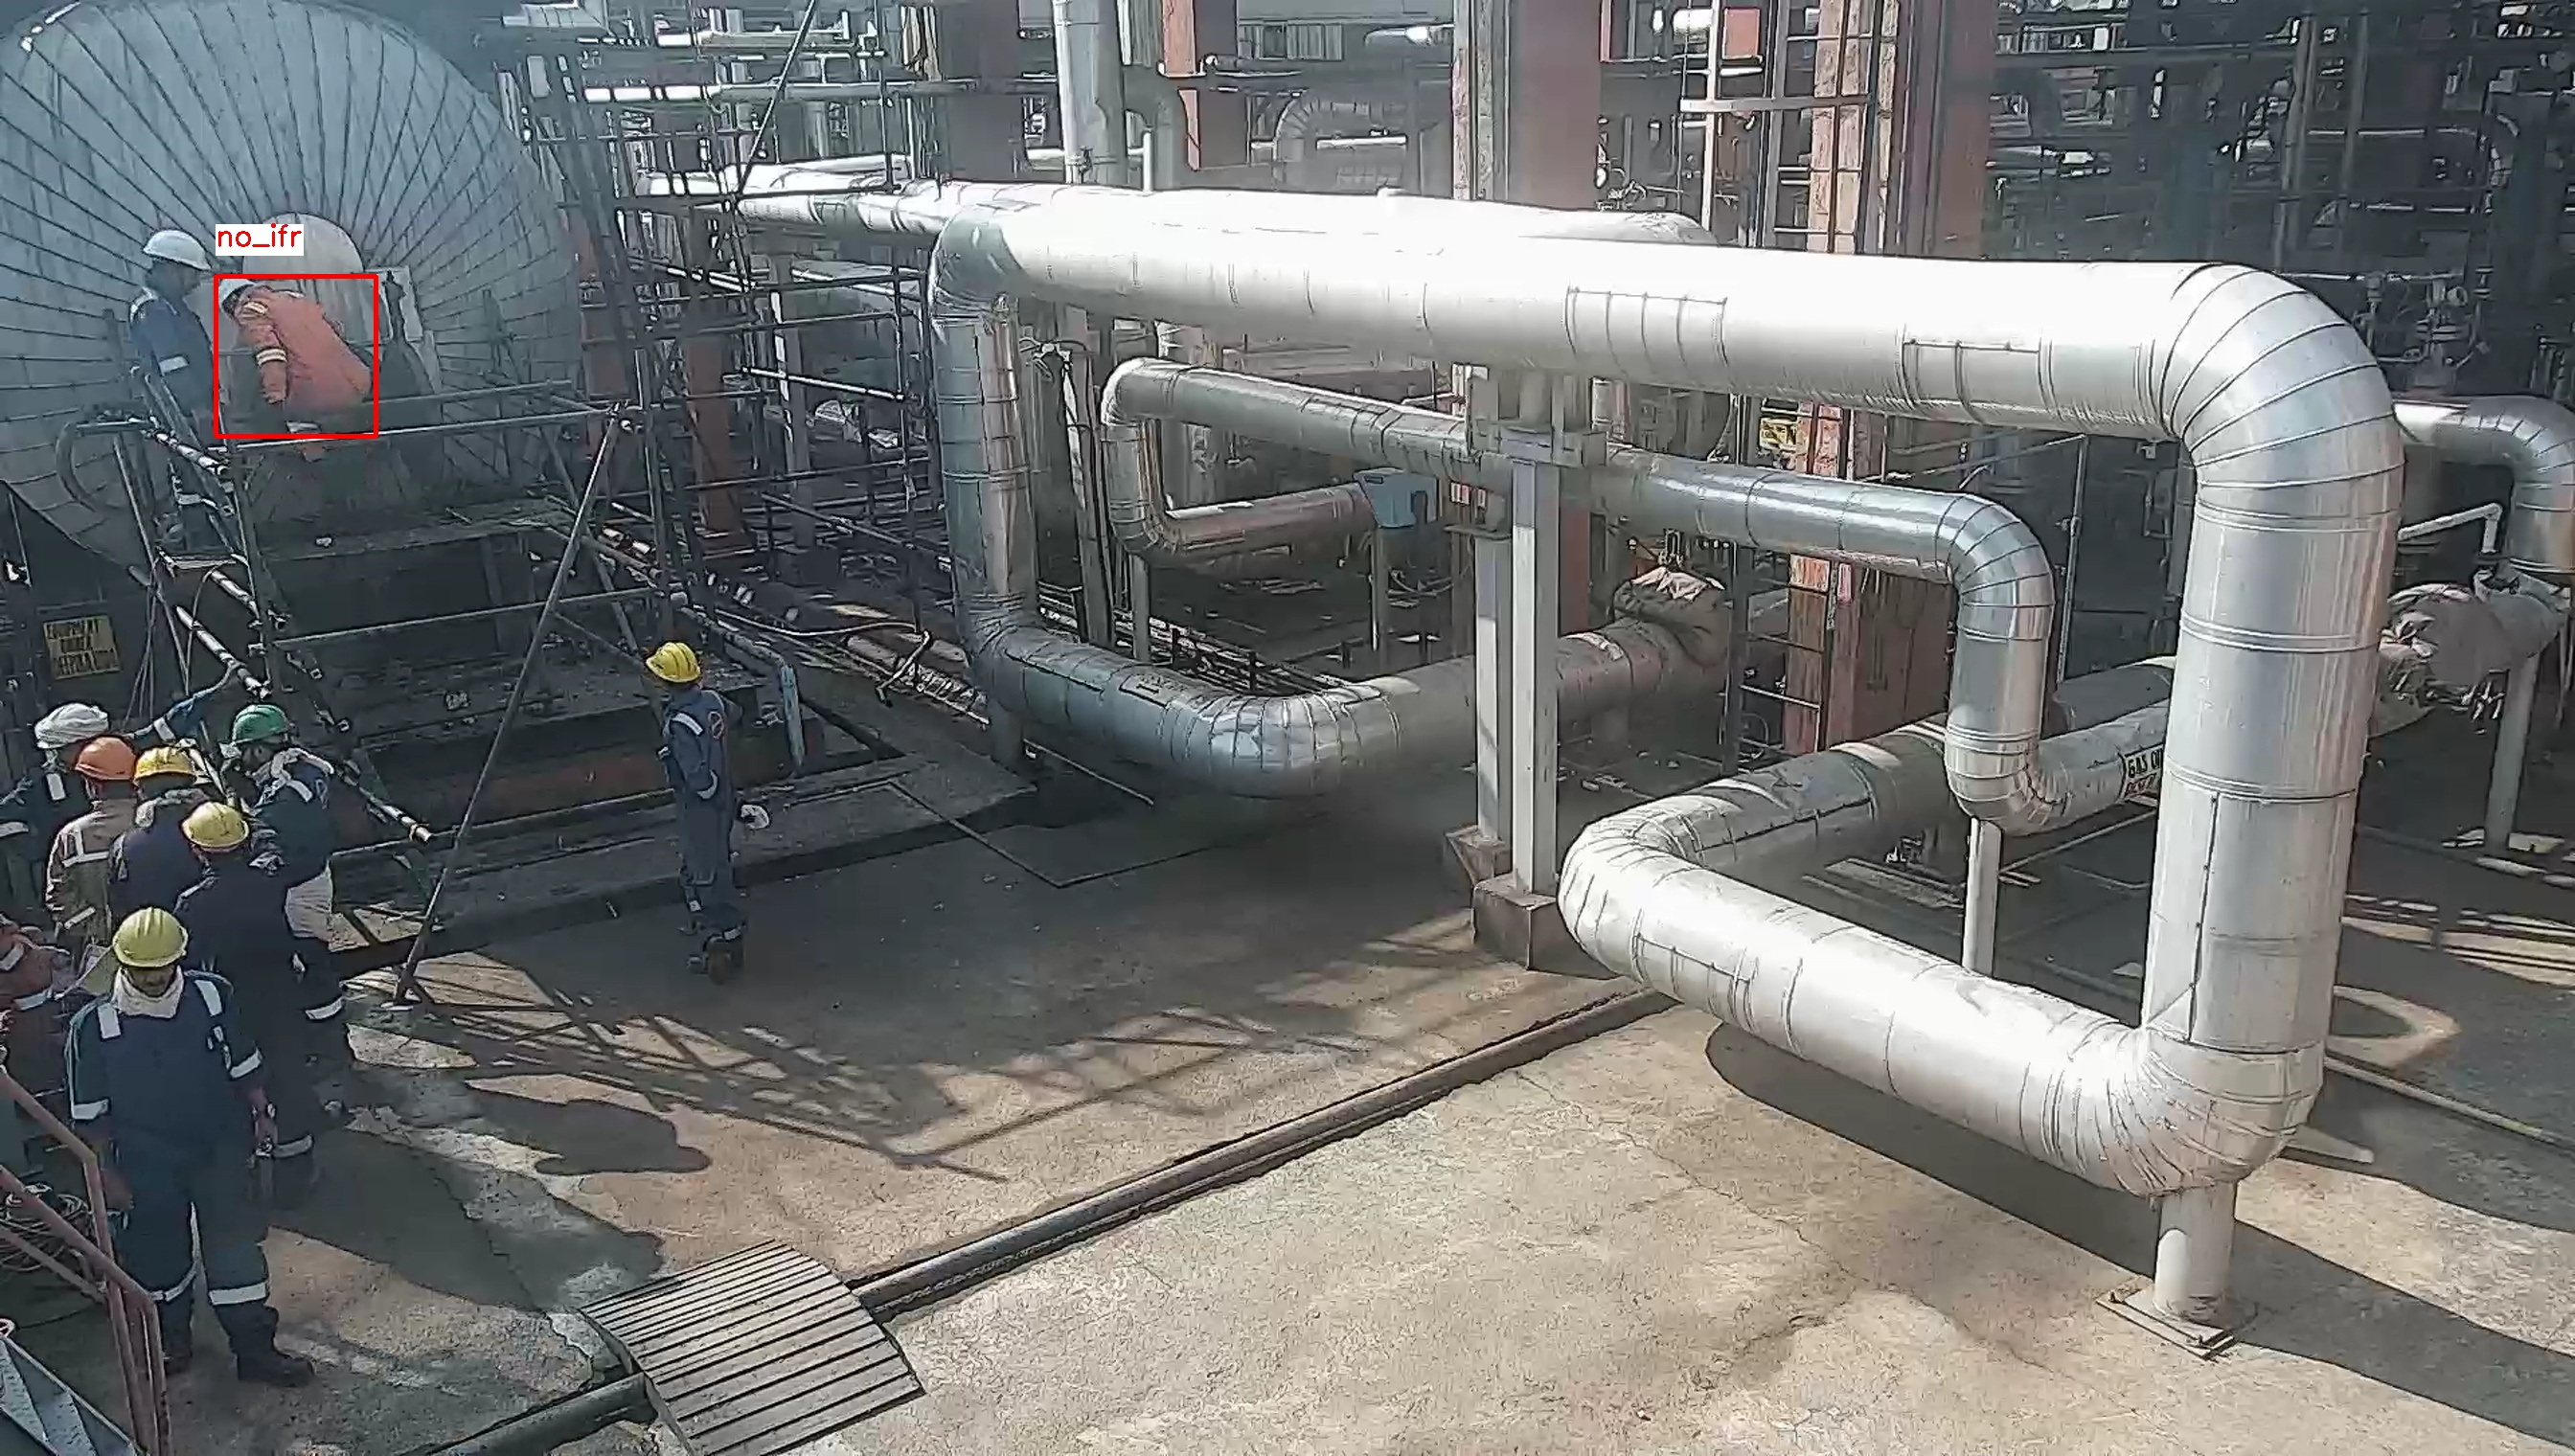Boots: (228, 1330, 341, 1396)
Helmets: (110, 909, 195, 973), (177, 796, 258, 856), (223, 701, 304, 748), (646, 637, 707, 688), (131, 741, 200, 785)
IFR_Suit: (658, 690, 760, 943)
